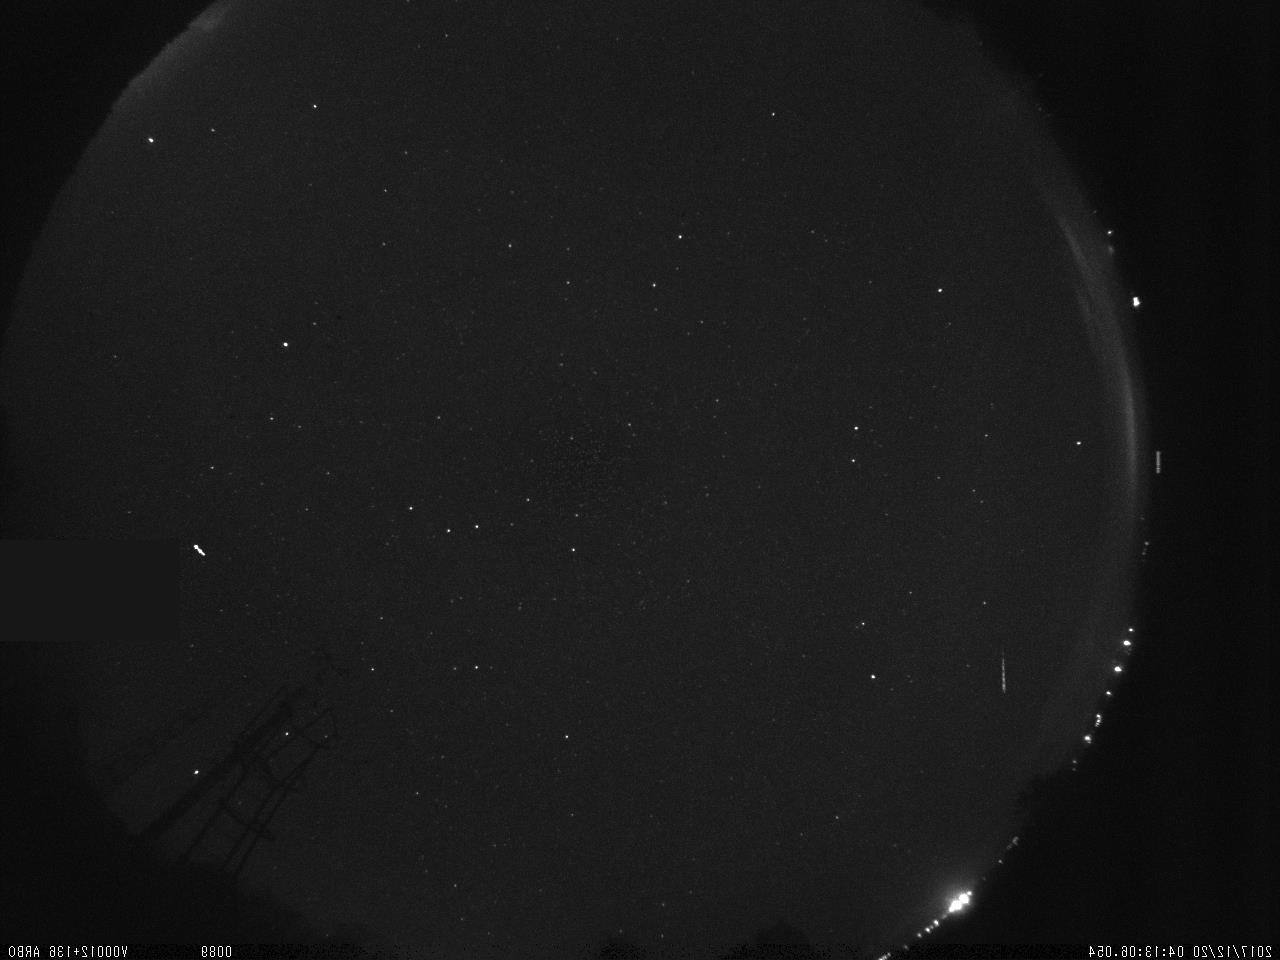meteor: (994, 635, 1015, 705)
satelite: (188, 532, 209, 564)
